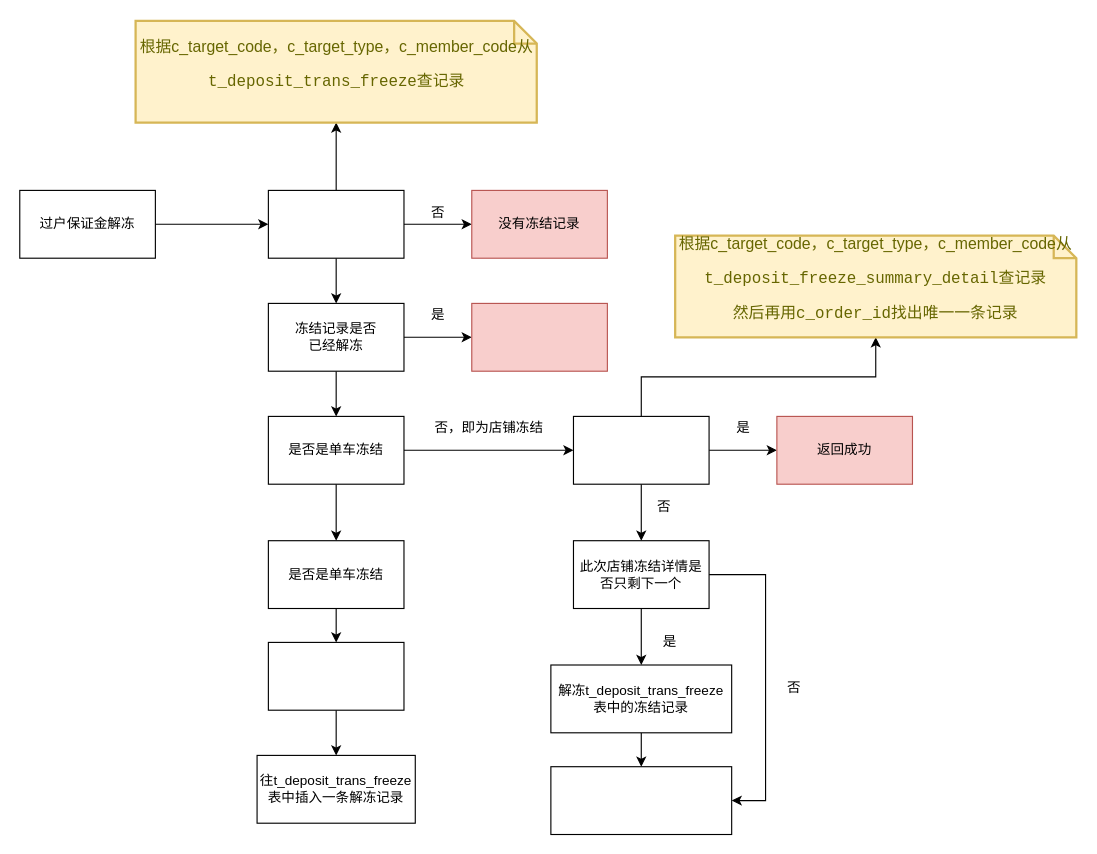
Some shapes in this 1097 by 854 pixel diagram are drawn without their labels. Each missing label, with the centre of its shape:
冻结否为空？: pixel 640 449
冻结记录已经解冻: pixel 539 336
冻结记录是否存在: pixel 335 223
将找到的一条冻结明细记录 删除: pixel 641 800
更新账户可用金额和冻结金额: pixel 335 675
